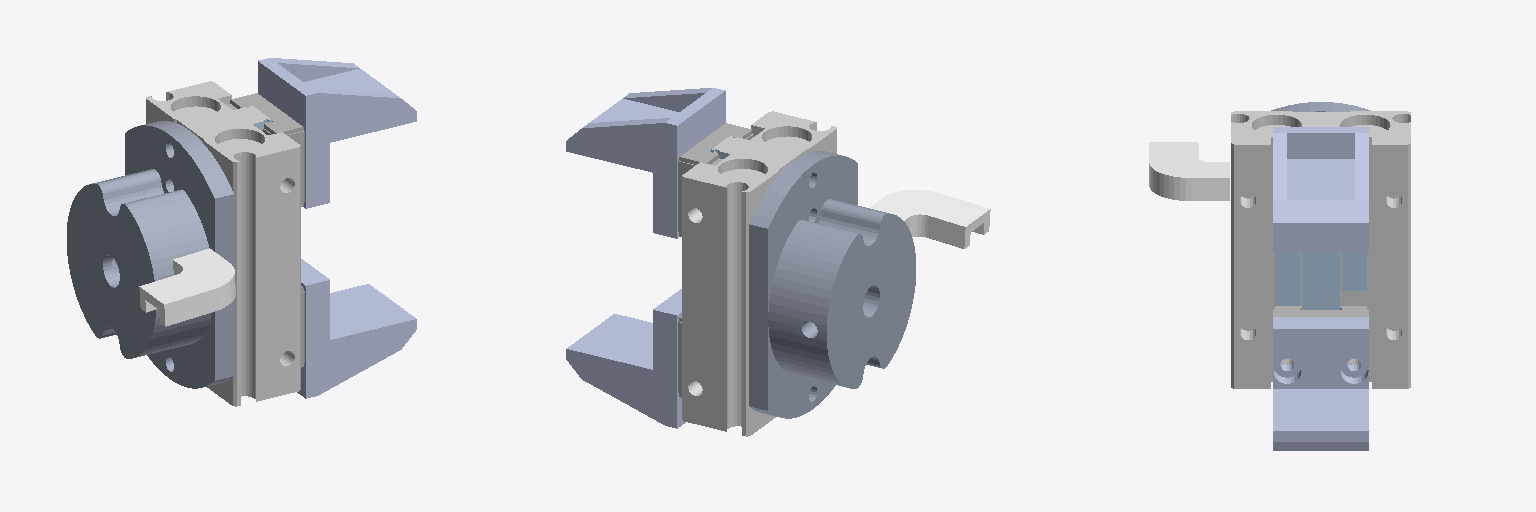
File: Gripper.obj
The picture shows the model from 3 angles: view 1: azimuth 30°, elevation 25°; view 2: azimuth 150°, elevation 25°; view 3: azimuth 270°, elevation 25°; orthographic projection.
Parts seen in each view (by area): view 1: Body1:4, Body1:1, Body1:3, Body1, Body1:2, Body3; view 2: Body1:4, Body1:1, Body1:3, Body1, Body1:2, Body3; view 3: Body1:1, Body1, Body1:3, Body1:2, Body2, Body3, Body1:4.
Part boxes in pixels (x1,y1,x2,y2): Body1:4: (67, 121, 233, 388); Body1:1: (146, 81, 300, 406); Body1:3: (258, 58, 416, 208); Body1: (297, 259, 416, 398); Body1:2: (139, 248, 235, 326); Body3: (227, 93, 304, 206); Body1:4: (749, 151, 915, 418); Body1:1: (682, 111, 836, 436); Body1:3: (566, 88, 725, 238); Body1: (566, 289, 685, 428); Body1:2: (870, 190, 990, 248); Body3: (678, 123, 753, 236); Body1:1: (1231, 111, 1410, 388); Body1: (1273, 317, 1368, 450); Body1:3: (1273, 127, 1368, 251); Body1:2: (1149, 142, 1229, 200); Body2: (1273, 252, 1368, 364); Body3: (1342, 252, 1366, 290); Body1:4: (1271, 102, 1370, 111).
Bounding box in the file's own units: 6.47 × 5.95 × 4.66.